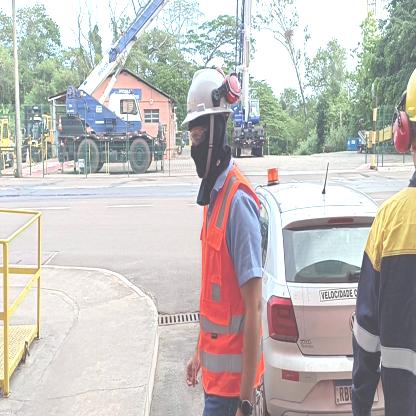Balaclava: (186, 119, 235, 192)
Capacete: (180, 61, 238, 122)
colete: (199, 200, 268, 396)
